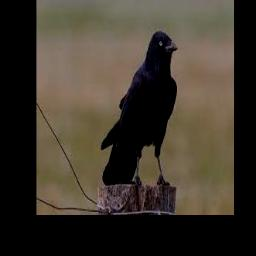Crow: (101, 31, 179, 185)
